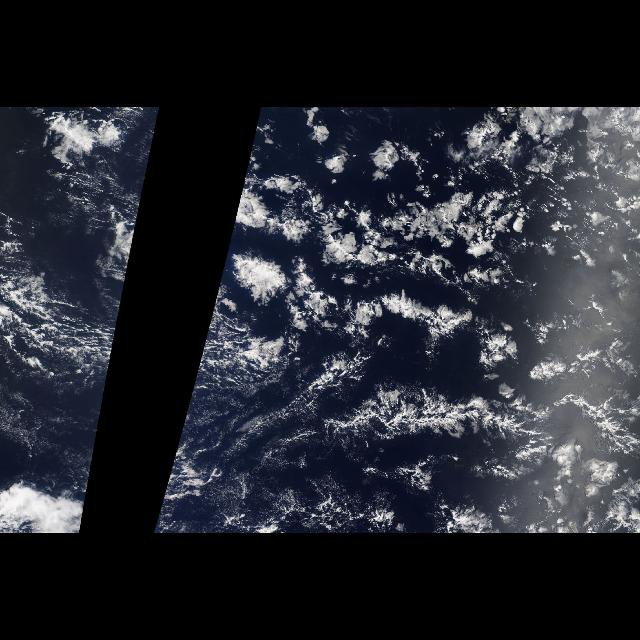Fish: (154, 300, 640, 520), (18, 300, 124, 520)
Flower: (196, 120, 640, 382)
